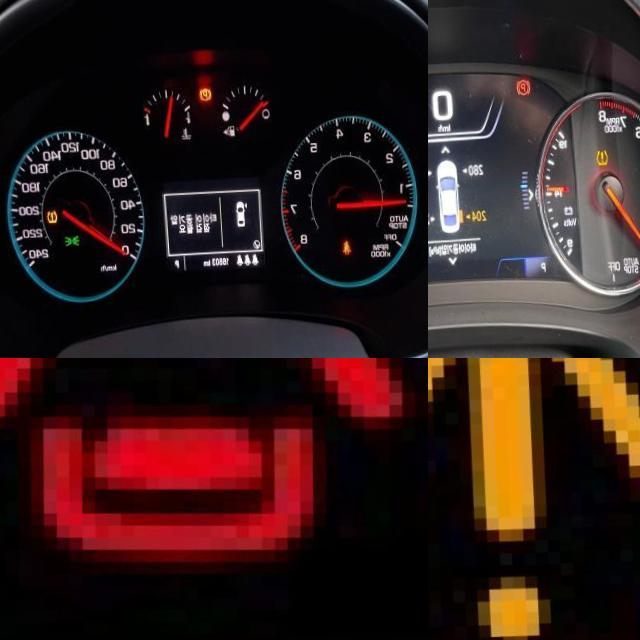Central Warning lamp: (428, 358, 640, 640)
Doors: (0, 358, 428, 574)
SideLamp: (60, 236, 75, 249)
